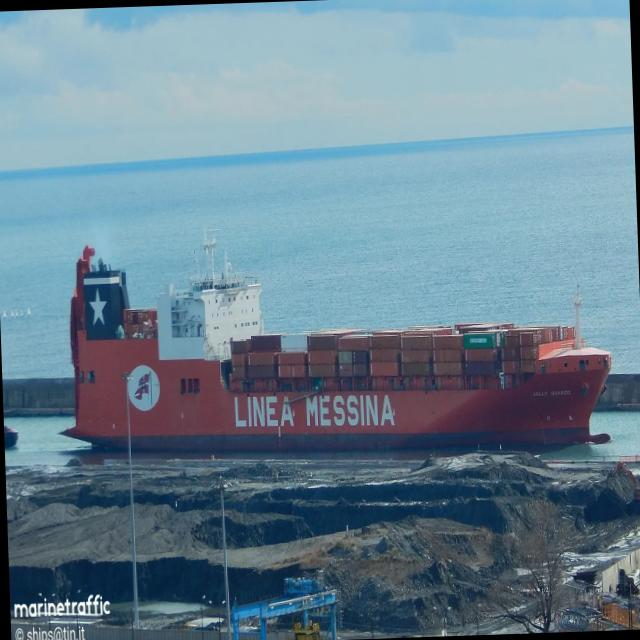Cargo: (56, 226, 614, 452)
